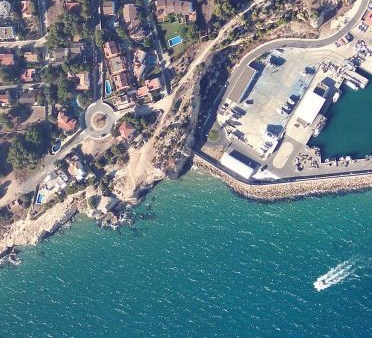ship: (313, 275, 331, 293)
